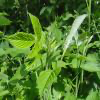Raspberry leaf: (36, 65, 63, 99), (0, 31, 35, 49), (26, 10, 43, 44), (25, 42, 42, 60), (24, 53, 42, 70)
